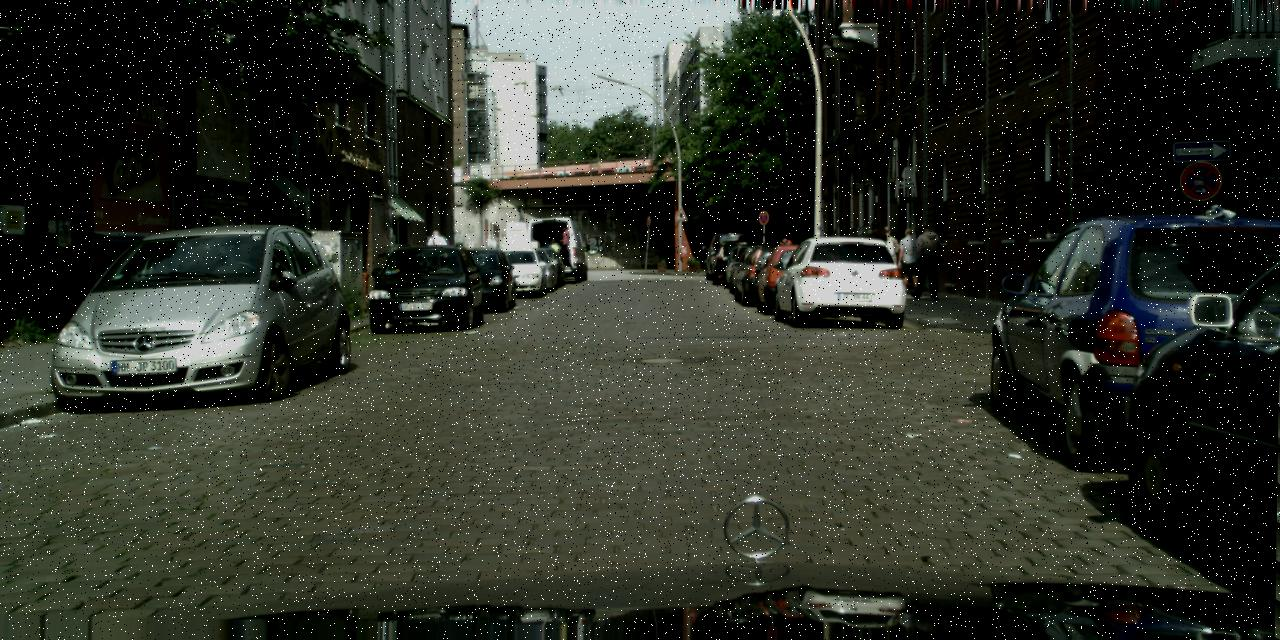ped: (910, 223, 940, 298), (863, 221, 891, 289), (874, 227, 901, 294), (896, 227, 922, 292), (424, 230, 448, 290), (773, 233, 794, 285)
